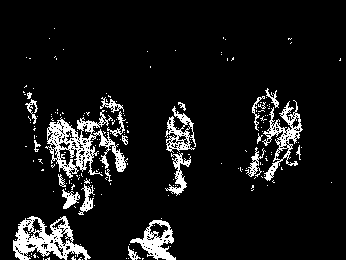person: (41, 108, 75, 202), (72, 112, 103, 212), (166, 101, 196, 195), (100, 94, 133, 171), (273, 99, 299, 183), (249, 89, 272, 180), (24, 85, 45, 157)
